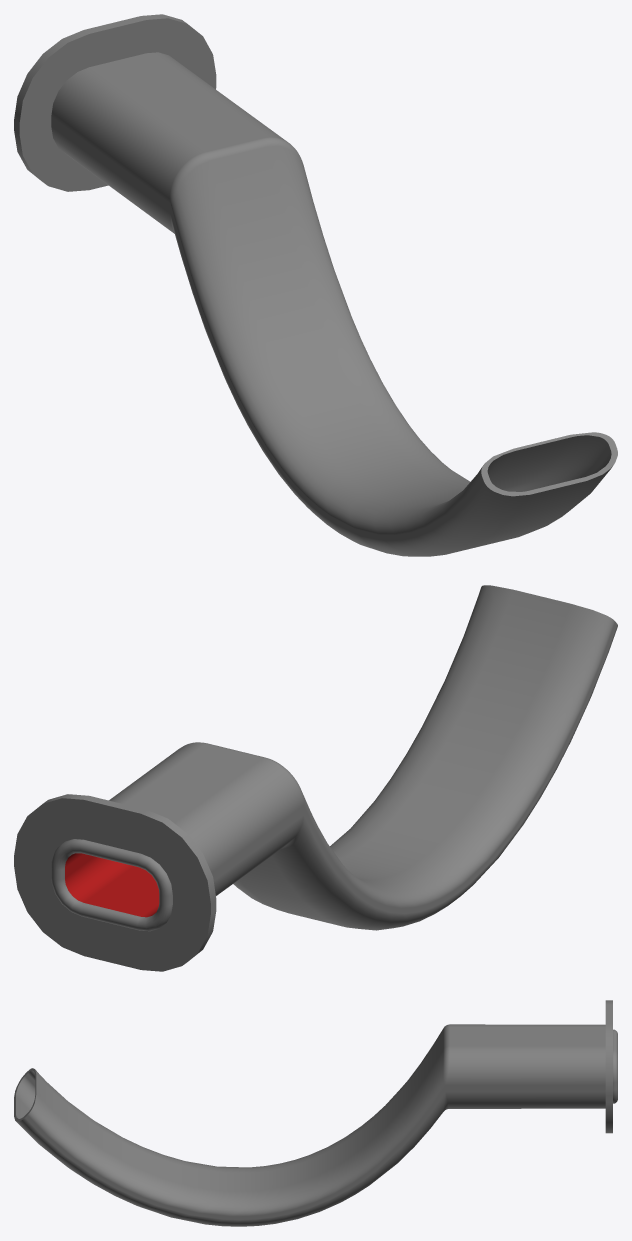
Rendered from canula roja.fbx.
The picture shows the model from 3 angles, top to bottom: view 1: azimuth 30°, elevation 25°; view 2: azimuth 150°, elevation 25°; view 3: azimuth 270°, elevation 25°; orthographic projection. The views are drawn at different scales.
Visible parts, largest first — view 1: canula-adulto-rojo.IGS; view 2: canula-adulto-rojo.IGS; view 3: canula-adulto-rojo.IGS.
Boxes of the visible parts, bbox=[...] form: canula-adulto-rojo.IGS: bbox=[14, 14, 617, 556]; canula-adulto-rojo.IGS: bbox=[14, 585, 617, 971]; canula-adulto-rojo.IGS: bbox=[14, 1000, 617, 1226].
Bounding box in the file's own units: 2.44 × 3.51 × 9.66.
